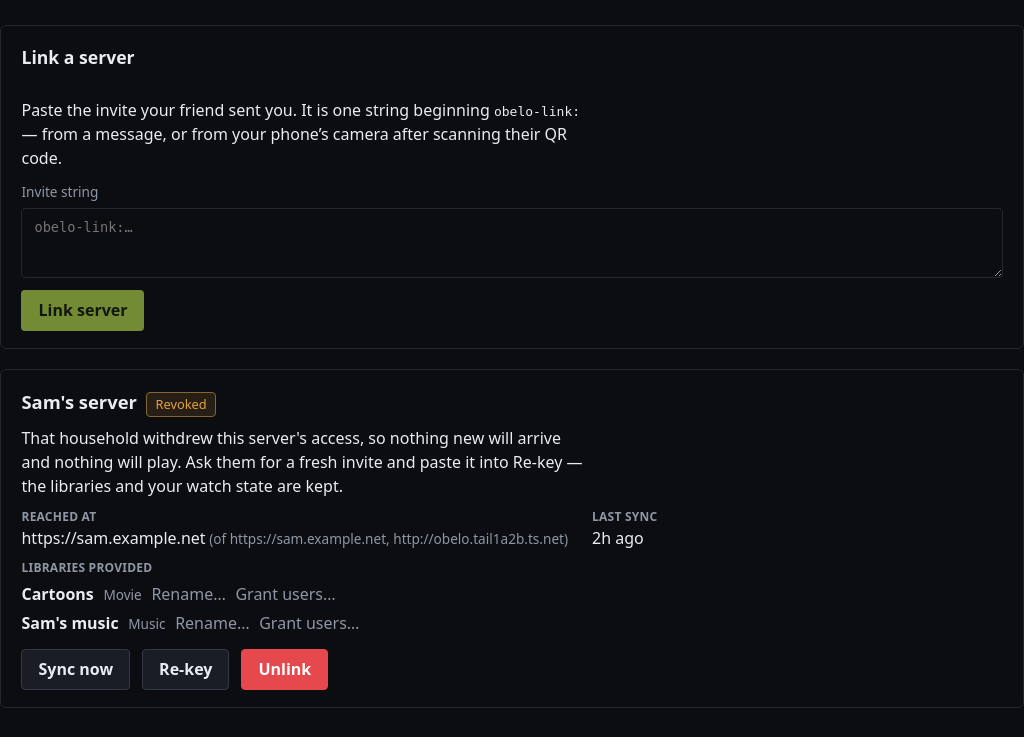
Test: AdminLinkedServersScreen — the walkthrough › re-keys a revoked Link with a fresh invite, in the same kind of textarea
Check: the text with test id "link-state-chip" reads "Revoked", box [156,395,207,413]
Check: the text with test id "link-state-note" shows "fresh invite", box [22,427,583,497]
Click the button with test id "link-rekey-toggle".
click(186, 669)  # box [142,649,229,690]
(page scrolled)
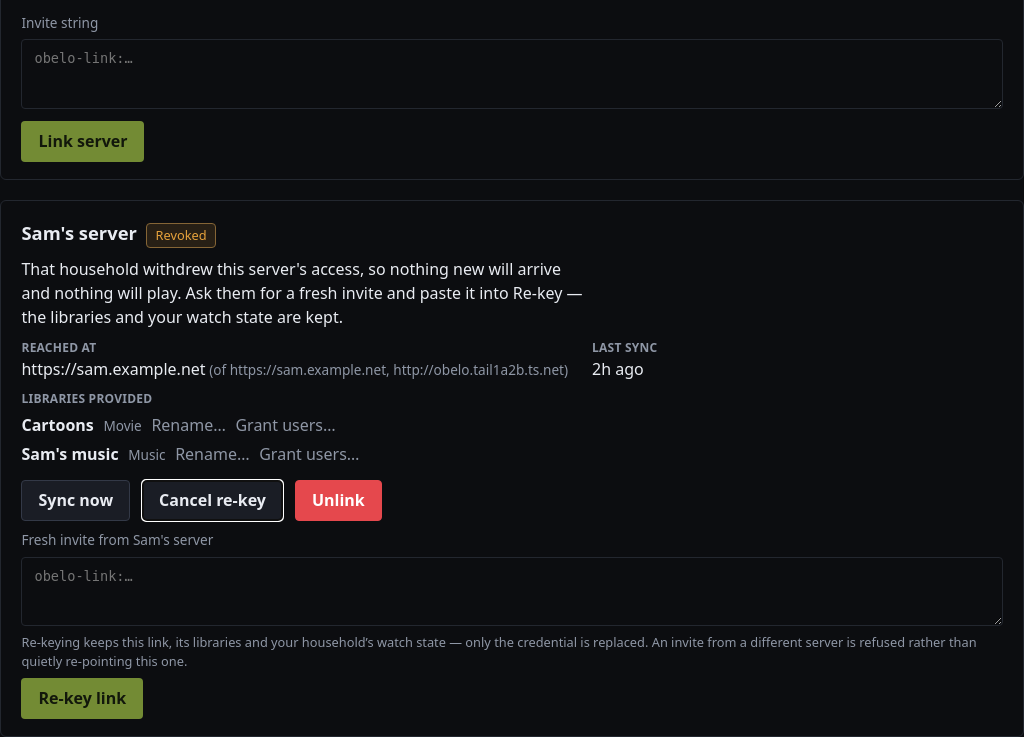
Type "obelo-link:eyJ2IjoxfQ" into the text box with test id "link-rekey-input".
click(512, 592); type("obelo-link:eyJ2IjoxfQ")  # box [22,557,1003,626]
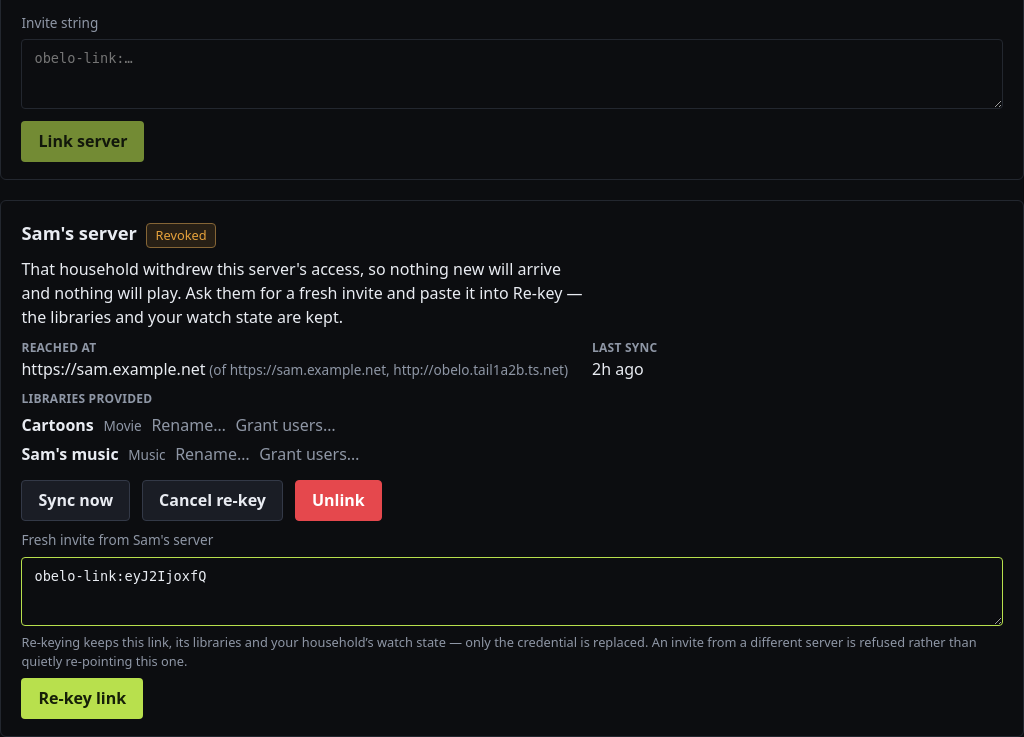
Click the button with test id "link-rekey-submit".
click(82, 698)  # box [22,678,143,719]
(page scrolled)
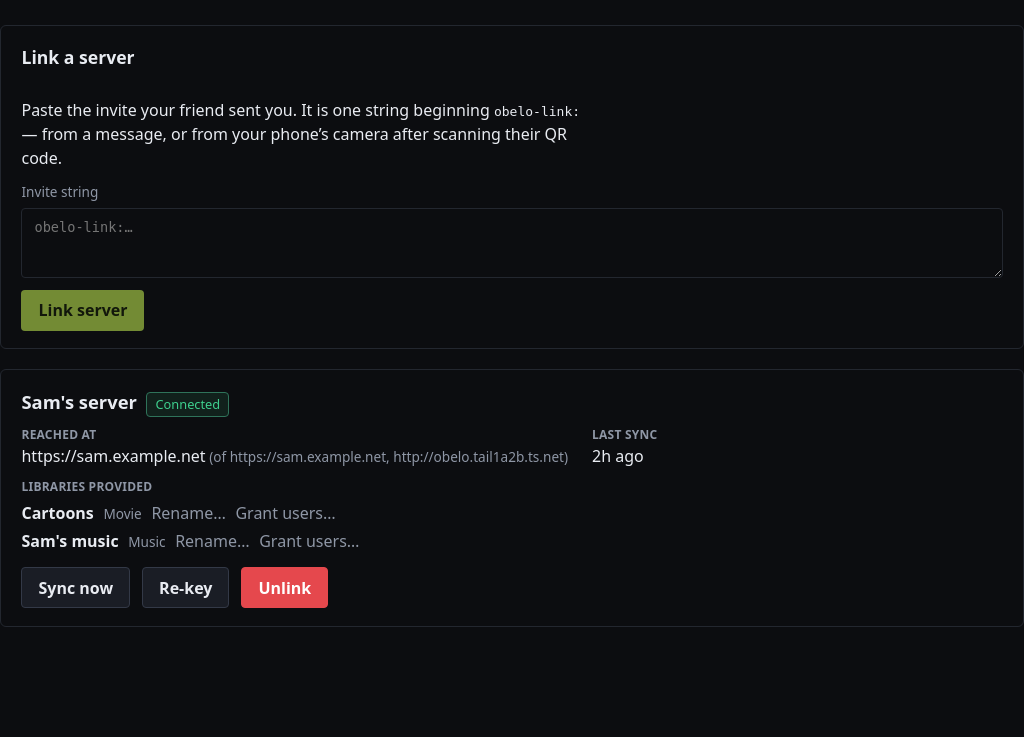
Check: the text with test id "link-state-chip" reads "Connected", box [156,395,220,413]
Check: the text box with test id "link-rekey-input" is gone
